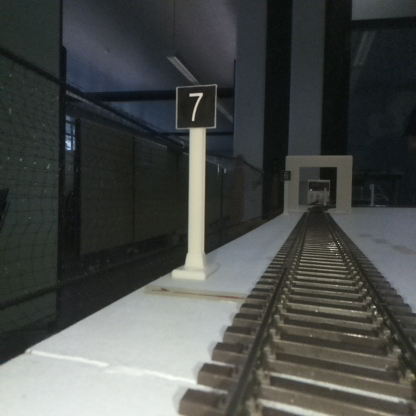black-info-7: (177, 85, 215, 278)
